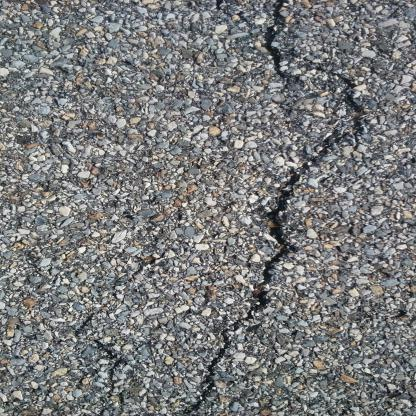Cracks: (174, 68, 377, 416), (252, 0, 307, 75)
